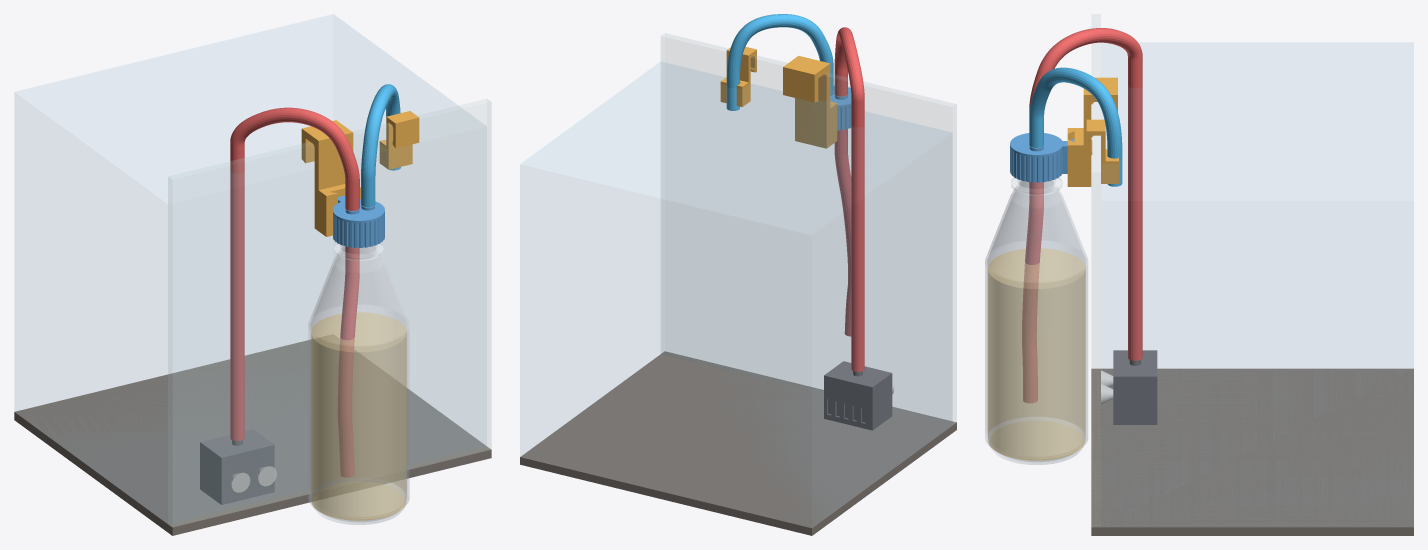
The model's file is filter_mockup.glb.
The picture shows the model from 3 angles, left to right: view 1: azimuth 30°, elevation 25°; view 2: azimuth 150°, elevation 25°; view 3: azimuth 270°, elevation 25°; orthographic projection. The views are drawn at different scales.
Visible parts, largest first — view 1: water, glass, tank_floor, bottle, media, feed_hose, pump, intake_hose, tank_hook, return_hose, cap, return_clip (+1 smaller); view 2: water, glass, tank_floor, feed_hose, pump, tank_hook, return_hose, intake_hose, return_clip, cap; view 3: water, tank_floor, bottle, media, feed_hose, intake_hose, glass, pump, return_hose, cap, tank_hook, return_clip.
Part boxes in pixels (x1,y1,x2,y2): water: (15,14,486,523); glass: (168,99,490,526); tank_floor: (14,334,491,535); bottle: (308,242,409,524); media: (311,312,406,520); feed_hose: (230,107,359,440); pump: (200,429,274,504); intake_hose: (338,246,359,477); tank_hook: (301,120,360,236); return_hose: (361,84,400,207); cap: (333,195,384,247); return_clip: (379,111,419,169); water: (520,62,951,523); glass: (661,33,956,424); tank_floor: (520,351,956,535); feed_hose: (834,27,864,371); pump: (824,361,892,430); tank_hook: (783,55,837,148); return_hose: (726,14,833,110); intake_hose: (834,129,851,336); return_clip: (720,46,756,106); cap: (830,85,851,130); water: (1101,43,1413,525); tank_floor: (1091,368,1413,535); bottle: (985,177,1087,464); media: (988,248,1085,460); feed_hose: (1029,28,1142,360); intake_hose: (1022,182,1043,402); glass: (1092,14,1100,526); pump: (1113,350,1157,424); return_hose: (1029,67,1122,186); cap: (1010,133,1074,182); tank_hook: (1067,77,1117,186); return_clip: (1086,119,1118,183).
Bounding box in the file's own units: 0.24 × 0.2871 × 0.274.
